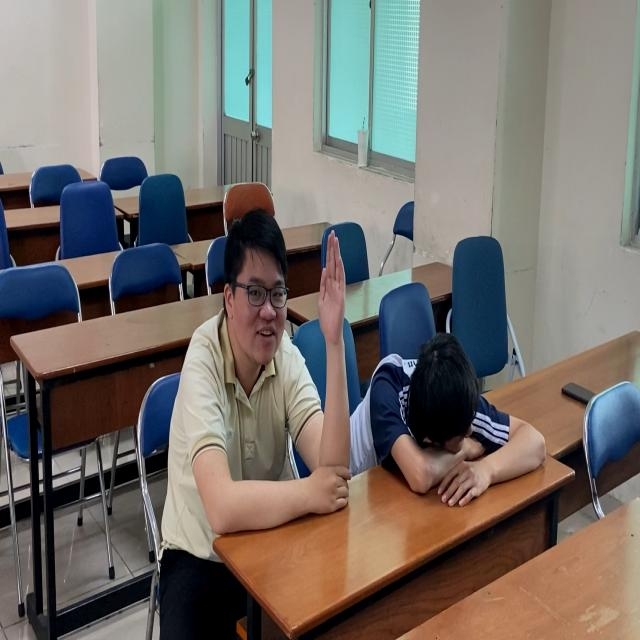raise_hand: (166, 198, 362, 547)
sleep: (365, 326, 532, 497)
